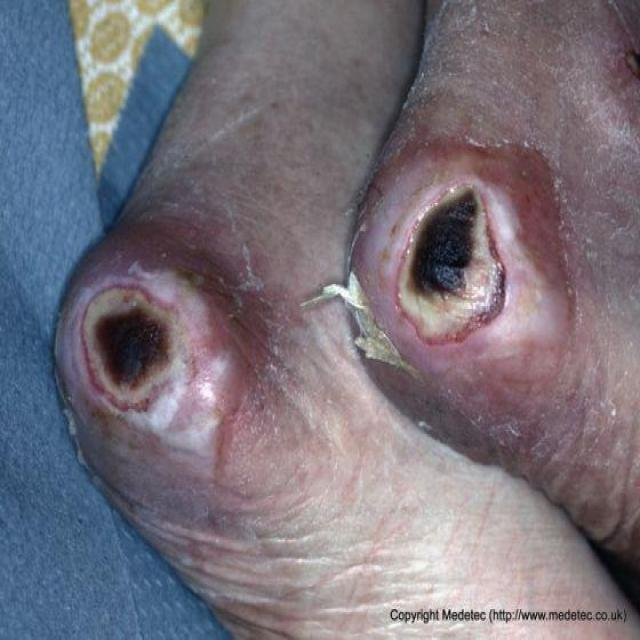Unstageable: (399, 188, 504, 342), (82, 290, 176, 411)
